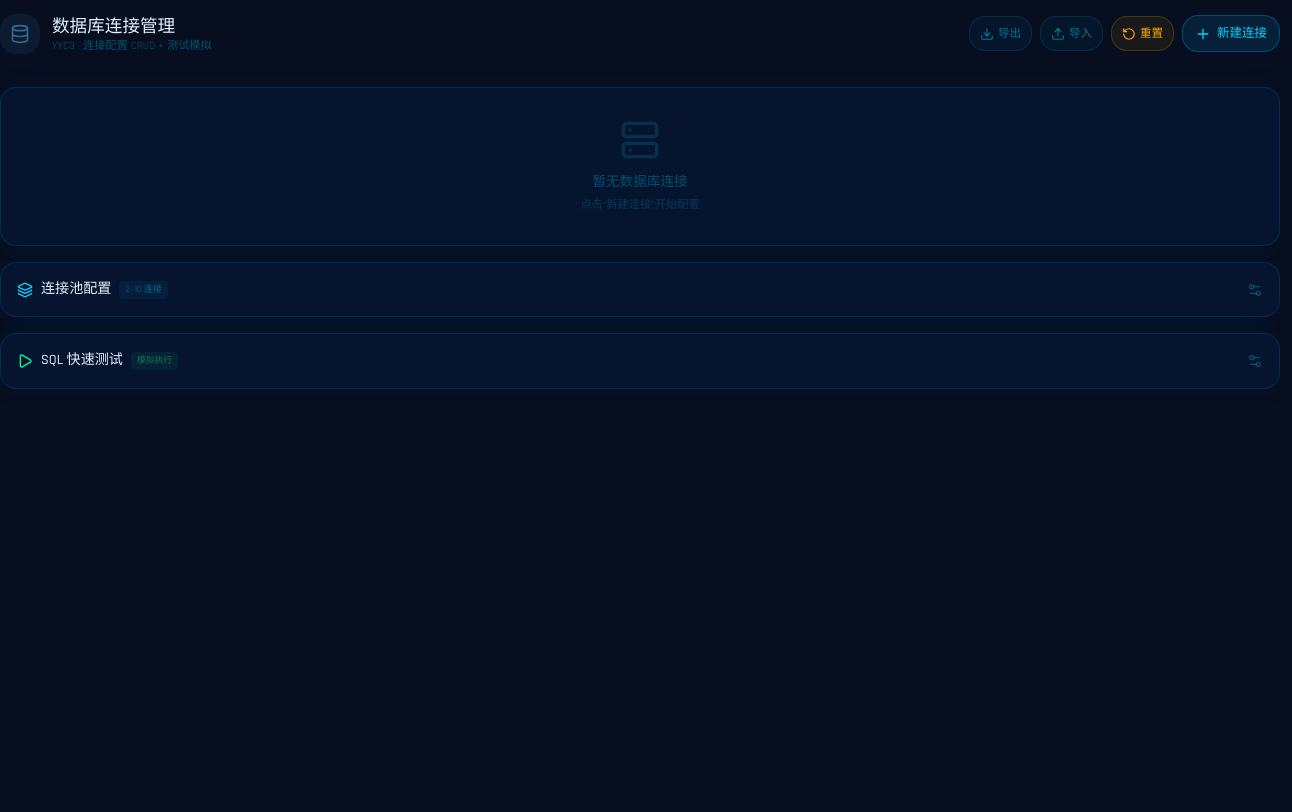
DatabaseConnectionPanel › 新建连接 › opens add form on button click
Click the button with test id "db-new-connection-btn".
click(1231, 34)  # box [1182,15,1280,52]
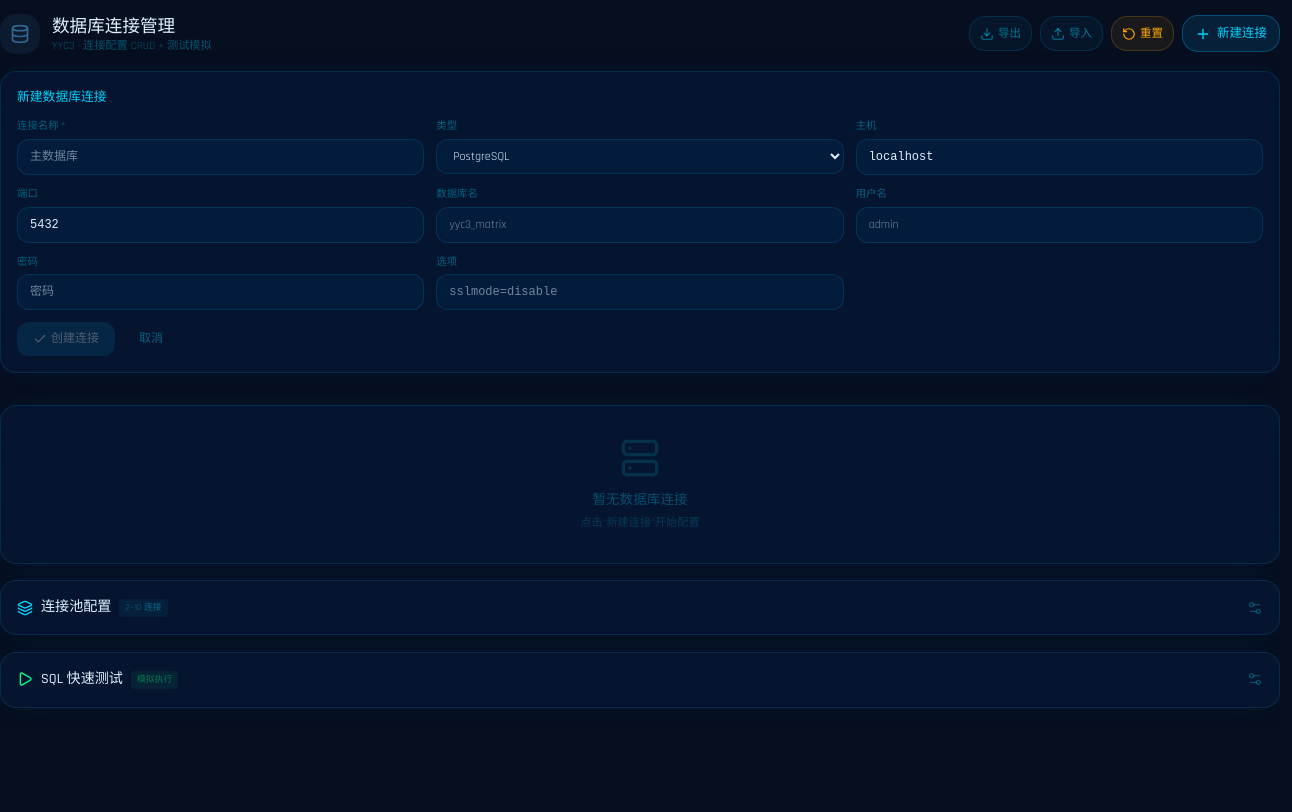
Expected: the text "新建数据库连接" is shown, [17,89,107,105]
